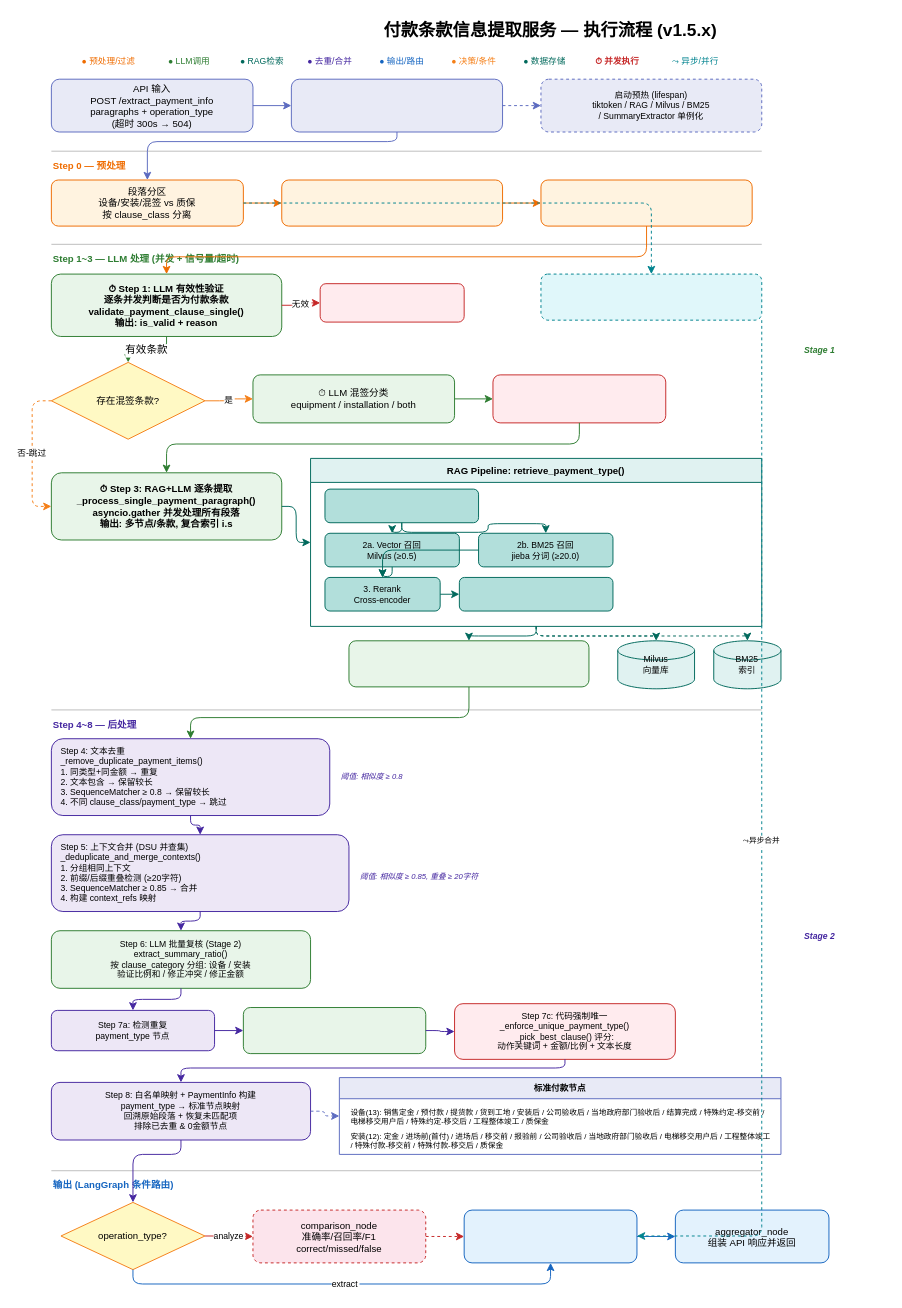
Some shapes in this 902 by 1308 pixel diagram are drawn without their labels. The shapes that lost their labels are listed below. From the top down, each one's centre as x and y in pixels, then its label:
At [396,105]: "构建初始状态 启动工作流引擎 (启动预热: RAG/LLM 单例)".
At [392,202]: "关键词预过滤 违约金/罚款/赔偿损失 等 (CLAUSE_FILTER_KEYWORDS)".
At [646,202]: "格式预过滤 排除: 表格行/分隔线/备注 _is_table_or_non_clause()".
At [391,302]: "无效条款过滤 移除 is_valid=false".
At [651,296]: "⤳ Step 2: 质保期提取 (并行) extract_summary_warranty() 质保期 / 生效条件 / 闭环条件".
At [579,398]: "both → 双轨展开 复制为设备+安装两份".
At [401,505]: "1. Embedding API (batch_size=16, L2归一化)".
At [535,593]: "4. Fusion + Voting 合并去重 + 标签投票".
At [468,663]: "LLM 提取: extract_payment_info() 输入: 条款文本 + RAG 结果 + 上下文块 输出: 多个 payment 节点/条款".
At [334,1030]: "Step 7b: ⏱ LLM 单组验证 verify_single_group_single() 选择最佳条款".
At [550,1236]: "output_node PaymentInfo + Warranty + ThinkingInfo".
